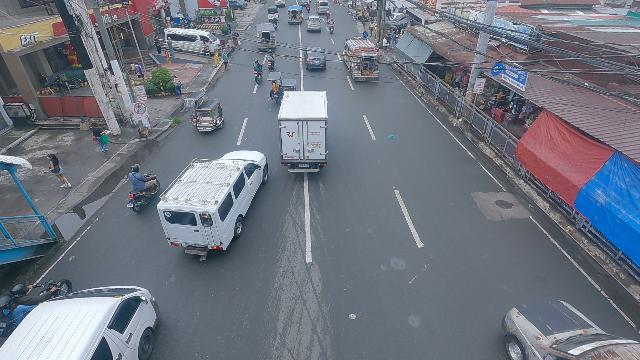car: (303, 45, 327, 70), (306, 15, 322, 32)
jeepney: (343, 36, 380, 84), (255, 23, 276, 53), (287, 5, 304, 25)
motorcycle: (125, 164, 162, 215), (253, 58, 263, 85), (266, 50, 275, 71), (328, 18, 334, 34), (272, 17, 278, 30), (306, 1, 310, 13), (326, 11, 330, 21)
truck: (276, 88, 329, 174)
van: (155, 149, 269, 258), (164, 28, 224, 59)
